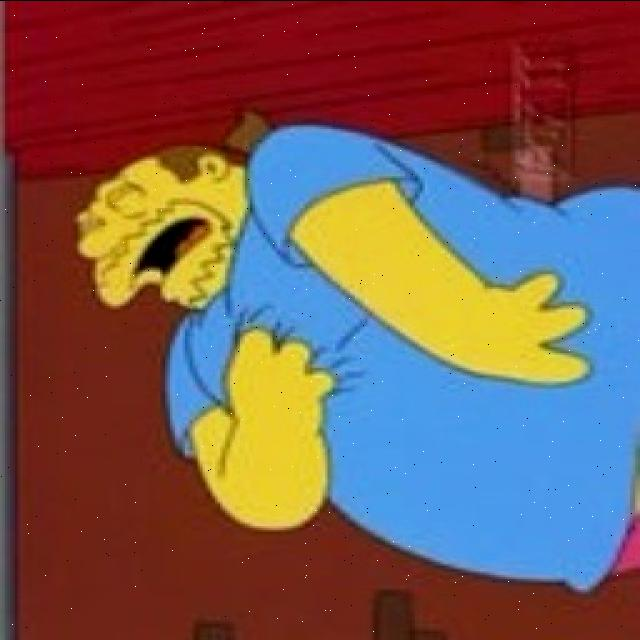Comic Book Guy: (75, 138, 260, 314)
